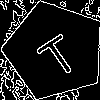T: (30, 25, 83, 80)
